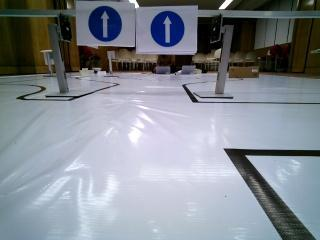straight: (139, 4, 200, 52), (76, 3, 133, 46)
